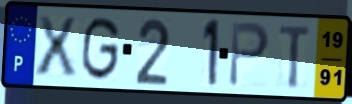1: (200, 17, 223, 90)
2: (135, 14, 173, 88)
G: (79, 15, 122, 83)
P: (227, 20, 272, 90)
T: (277, 23, 313, 91)
X: (34, 13, 79, 78)
